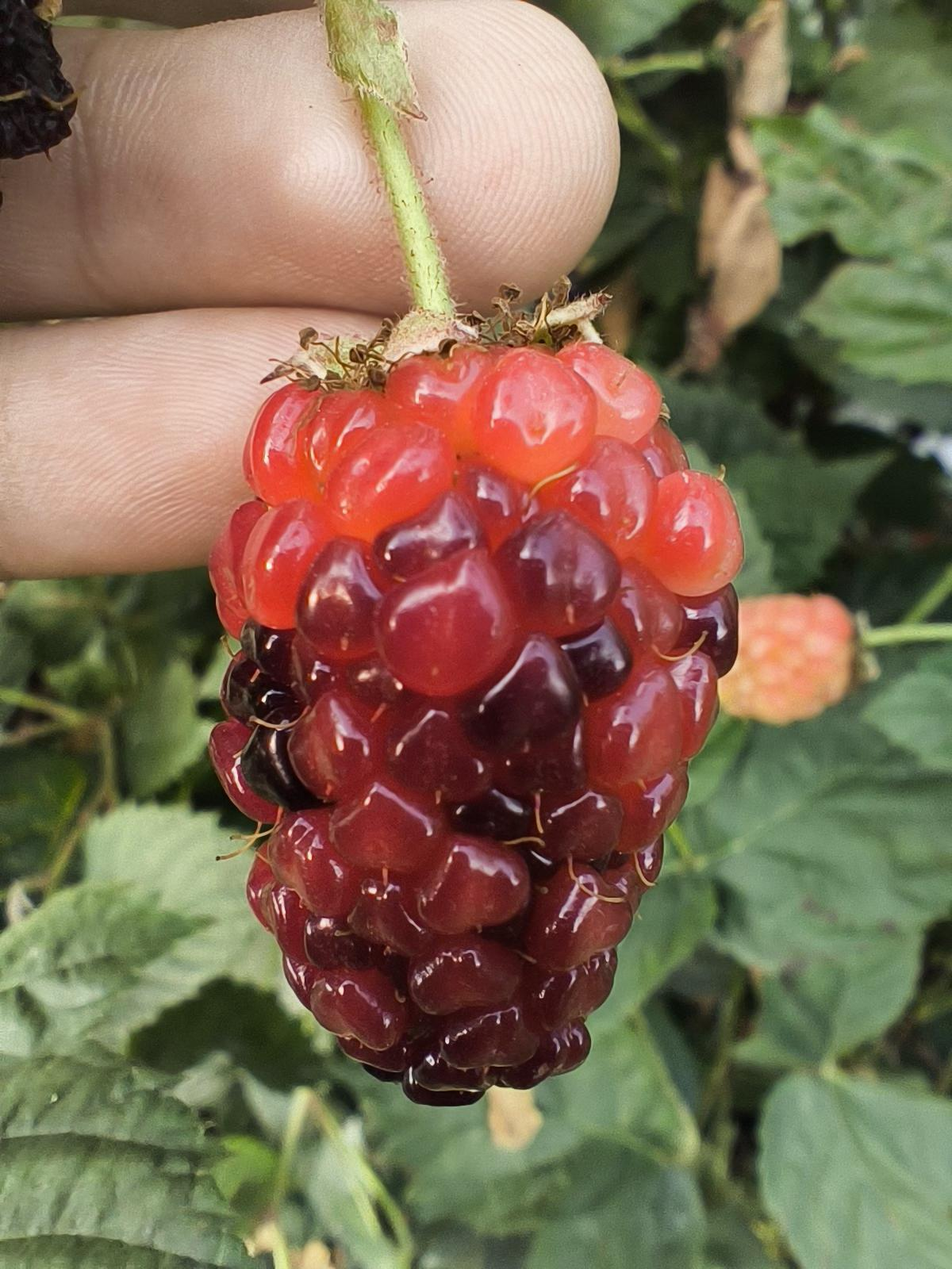marron: (217, 343, 728, 1109)
